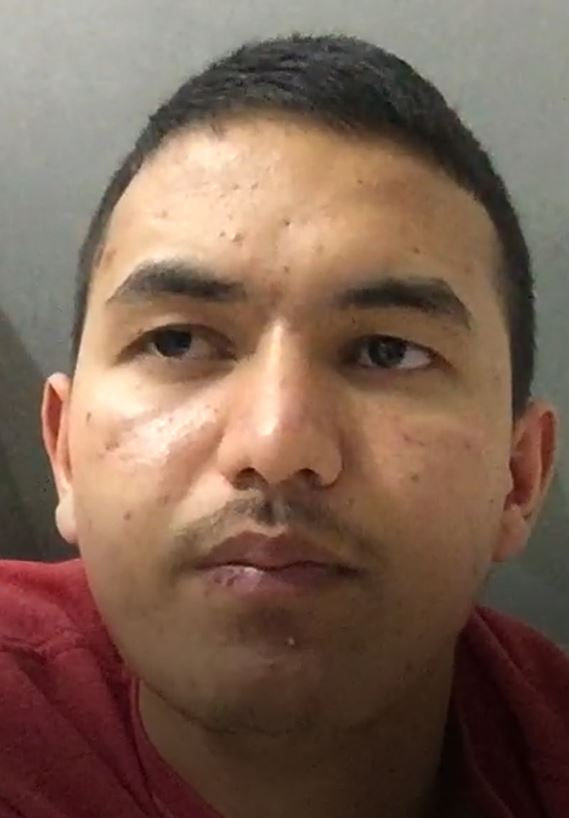Not Sleeping: (103, 281, 477, 407)
